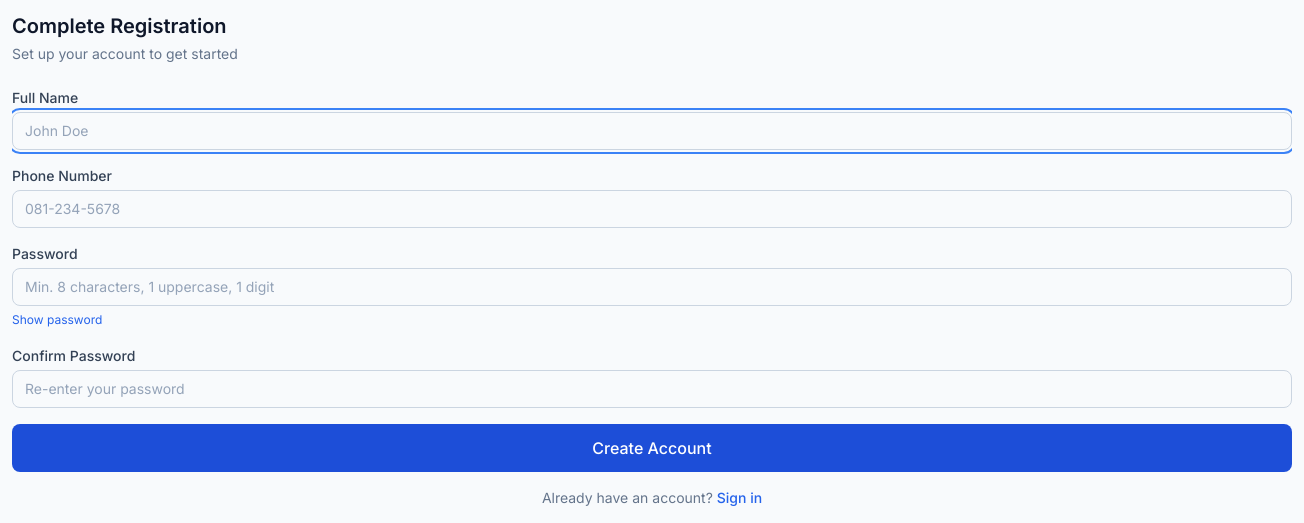
Test: RegisterPage › shows password visibility toggle
The width and height of the screenshot is (1304, 523).
Click the button labelled "Show password": {"x": 57, "y": 320} [12, 312, 102, 328]
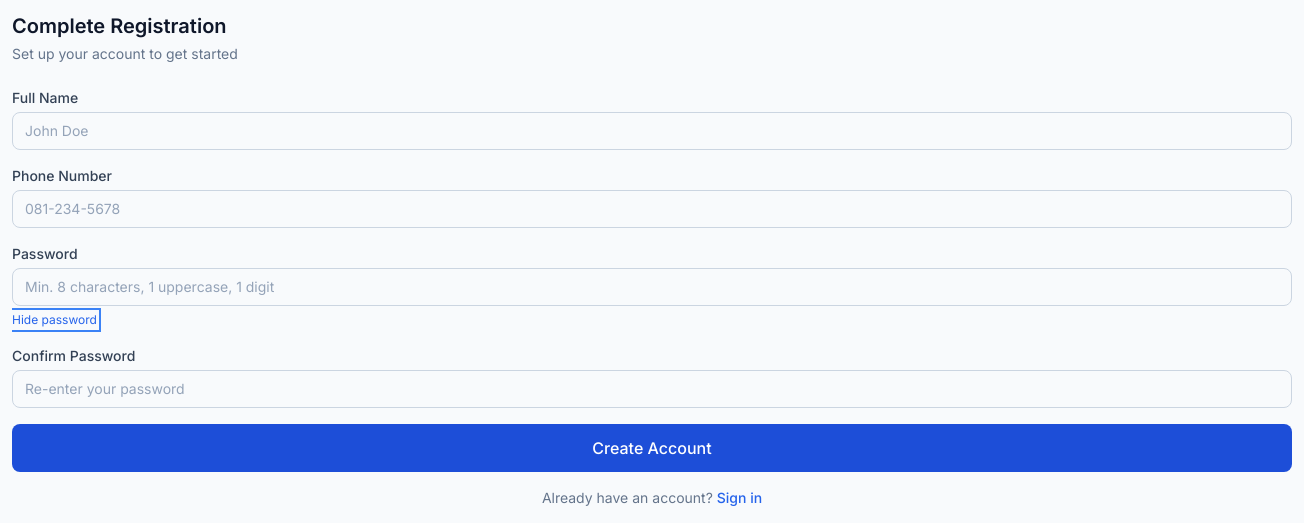
Result: the button labelled "Hide password" is shown at [12, 312, 97, 328]
